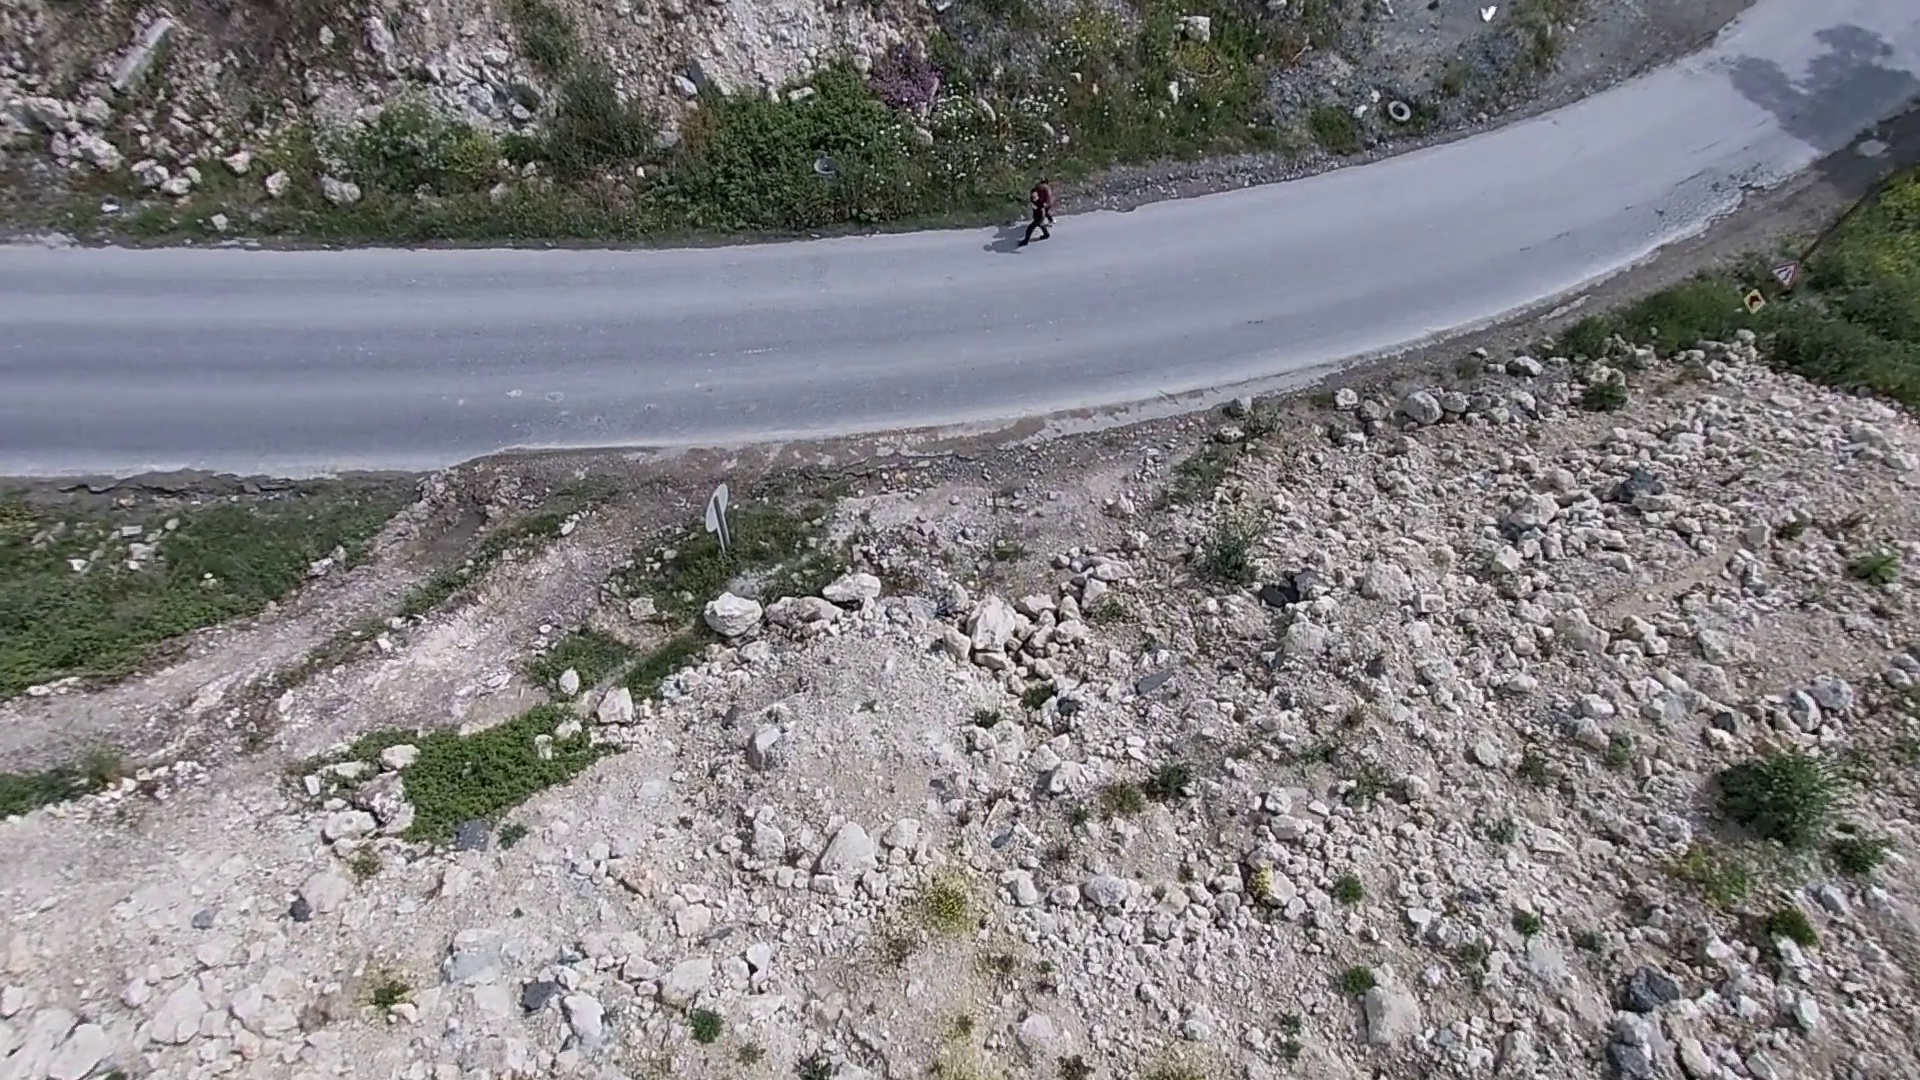insan: (1016, 191, 1049, 248), (1031, 173, 1060, 221)
